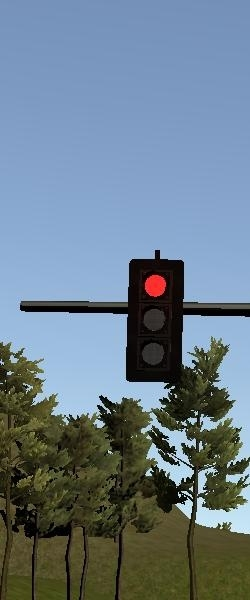Red: (126, 259, 183, 384)
